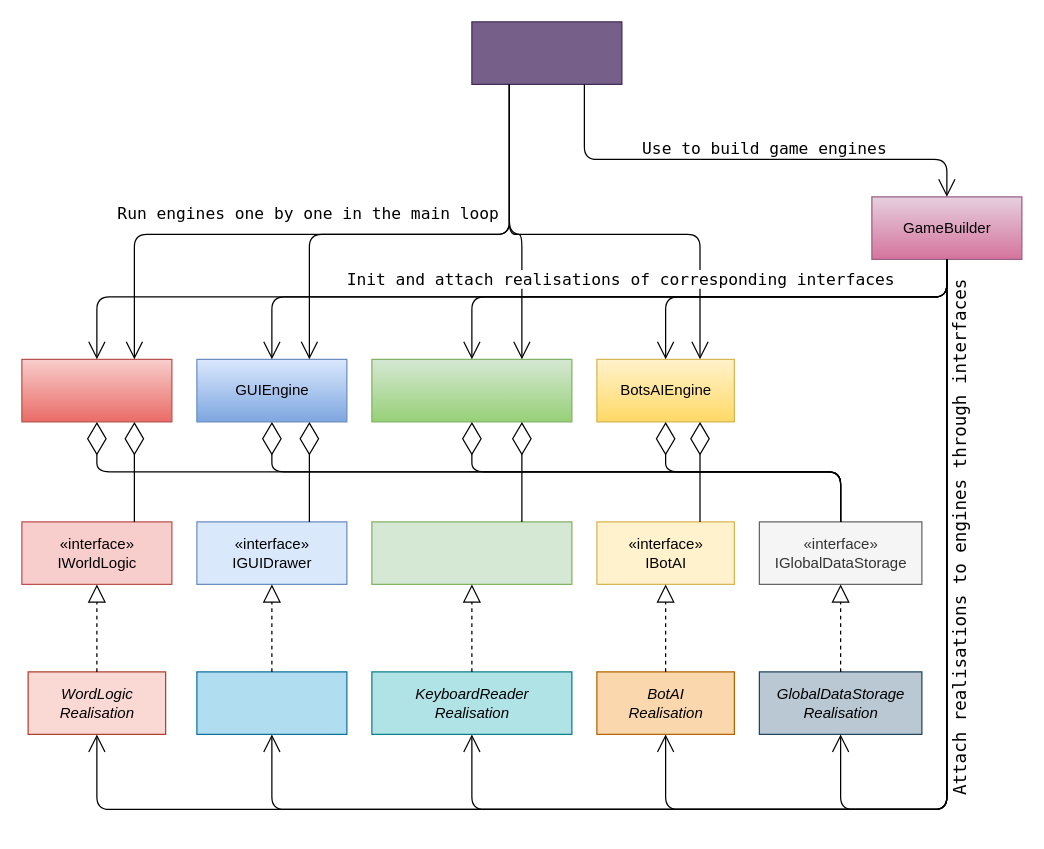
This 1044x849 diagram has some shape labels left out. The shapes that lost their labels are listed below. From the top down, each one's box as (x1, y1, x2, y2) in pixels, then its label:
(471, 21, 622, 84): GameEngine
(21, 358, 172, 422): WorlLogicEngine
(371, 358, 572, 422): PlayerControllerEngine
(371, 521, 572, 584): «interface» IKeyboardReader
(196, 671, 347, 734): GUIDrawer Realisation
